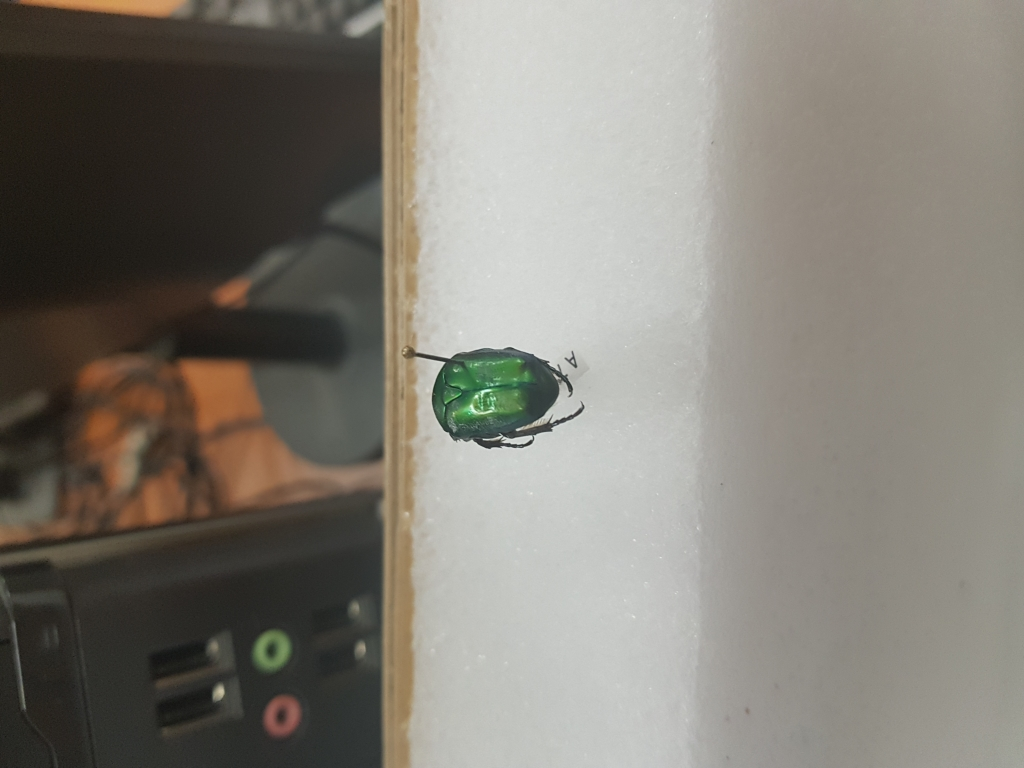Protaetia_cuprea_ignicollis: (423, 334, 589, 453)
